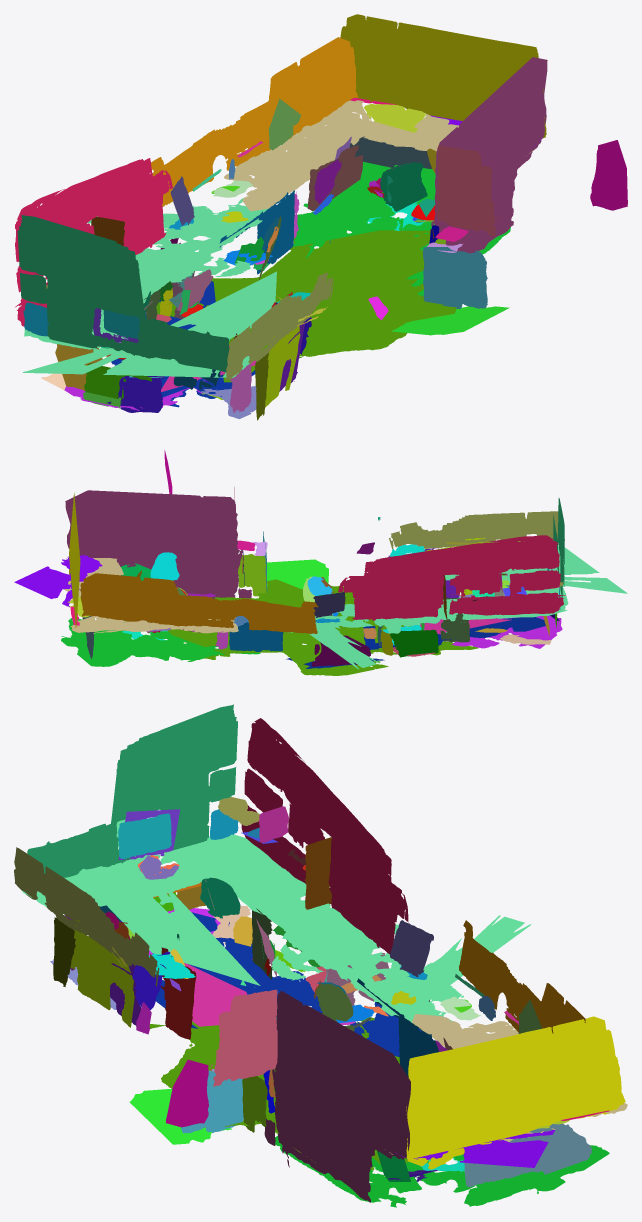
The model's file is neuralplane_scene0131.glb.
3 renders of one model, top to bottom at view 1: azimuth 30°, elevation 25°; view 2: azimuth 150°, elevation 25°; view 3: azimuth 270°, elevation 25°, orthographic. The views are drawn at different scales.
Parts seen in each view (by area): view 1: Node1; view 2: Node1; view 3: Node1.
Boxes of the visible parts, box(x1,y1,x2,y2) form: Node1: box(15, 14, 627, 420); Node1: box(14, 450, 627, 675); Node1: box(14, 704, 627, 1207).
Bounding box in the file's own units: 8.41 × 2.55 × 6.25.
